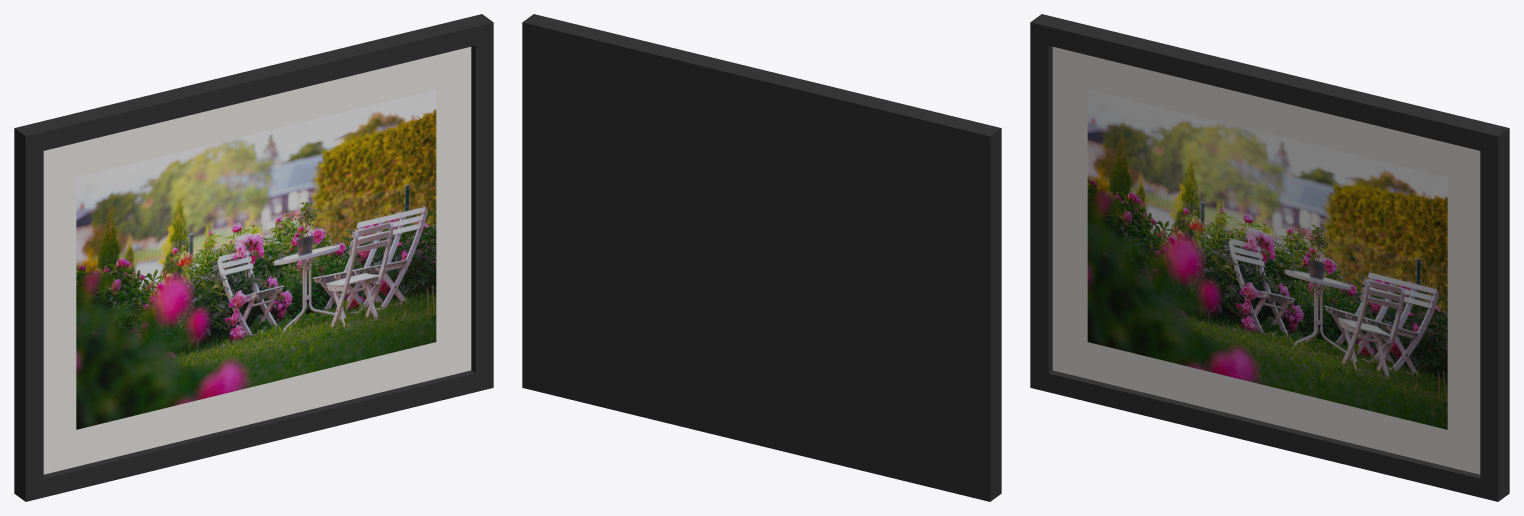
Rendered from pionerna-40.gltf.
3 views of the same model, side by side, from view 1: azimuth 30°, elevation 25°; view 2: azimuth 150°, elevation 25°; view 3: azimuth 330°, elevation 25° (orthographic).
Parts seen in each view (by area): view 1: tavla; view 2: tavla; view 3: tavla.
Part boxes in pixels (bbox=[...]): tavla: bbox=[14, 14, 493, 501]; tavla: bbox=[522, 14, 1001, 501]; tavla: bbox=[1030, 14, 1509, 501].
Bounding box in the file's own units: 0.52 × 0.3882 × 0.022.
Materials: 3 (1 with a texture image).
